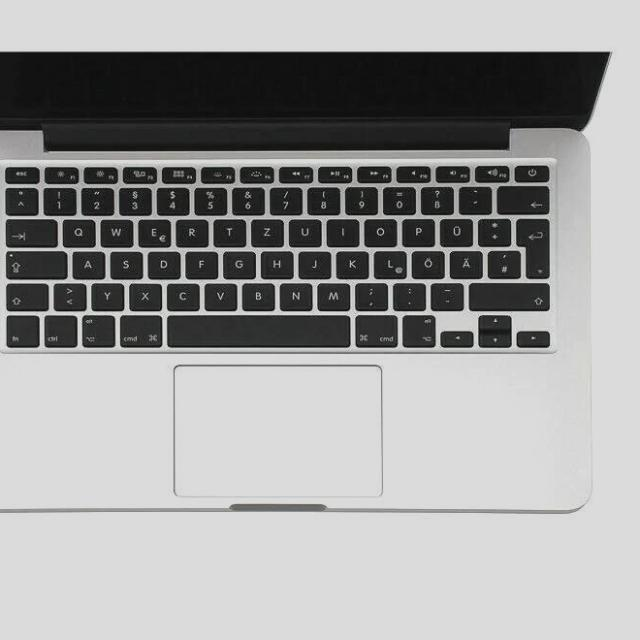0: (380, 184, 414, 213)
1: (40, 185, 75, 213)
2: (79, 186, 113, 214)
3: (116, 185, 151, 213)
4: (154, 185, 187, 213)
5: (192, 185, 225, 213)
6: (229, 185, 263, 213)
7: (267, 185, 301, 213)
8: (305, 185, 339, 213)
9: (343, 184, 377, 213)
a: (69, 249, 103, 278)
accent: (456, 184, 489, 212)
ae: (446, 248, 481, 277)
alt-left: (79, 312, 114, 346)
altgr-right: (400, 312, 435, 346)
b: (239, 280, 274, 309)
c: (164, 281, 198, 309)
caret: (2, 186, 36, 213)
comma: (352, 280, 386, 309)
d: (145, 249, 179, 277)
del: (494, 183, 548, 213)
e: (135, 216, 169, 245)
enter: (513, 216, 553, 279)
f: (183, 249, 217, 277)
g: (220, 248, 253, 277)
h: (257, 248, 291, 277)
hash: (484, 248, 519, 277)
i: (323, 216, 357, 245)
j: (296, 249, 329, 277)
k: (333, 248, 367, 277)
keyboard: (0, 152, 564, 354)
l: (371, 248, 405, 277)
less: (51, 281, 85, 309)
m: (314, 280, 348, 309)
minus: (427, 280, 462, 309)
n: (277, 280, 311, 309)
o: (361, 216, 395, 245)
oe: (408, 248, 443, 276)
p: (400, 216, 433, 245)
plus: (474, 216, 509, 245)
point: (390, 280, 424, 308)
q: (59, 216, 94, 246)
r: (173, 217, 207, 246)
s: (107, 249, 141, 277)
shift-left: (2, 280, 46, 310)
shift-lock: (3, 248, 65, 277)
shift-right: (466, 279, 548, 309)
space: (163, 311, 348, 345)
ss: (418, 184, 452, 213)
strg-left: (41, 312, 76, 346)
t: (211, 216, 245, 245)
tab: (3, 216, 55, 245)
u: (286, 216, 320, 245)
ue: (437, 216, 472, 245)
v: (201, 280, 236, 309)
w: (97, 216, 131, 245)
x: (126, 281, 160, 309)
y: (88, 280, 122, 309)
z: (248, 217, 282, 245)
